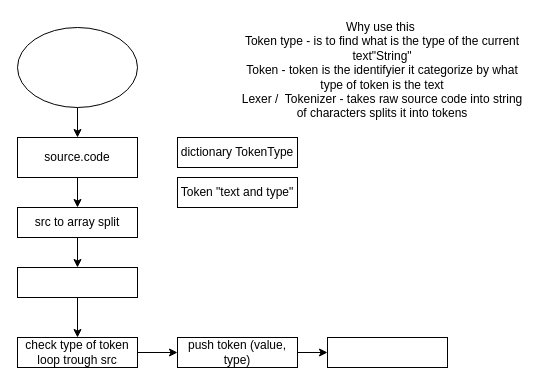
Some shapes in this 545 by 385 pixel diagram are drawn without their labels. Each missing label, with the centre of its shape:
const token array: (387,352)
LEX ANALYSYS: (77,282)
START: (77,67)
